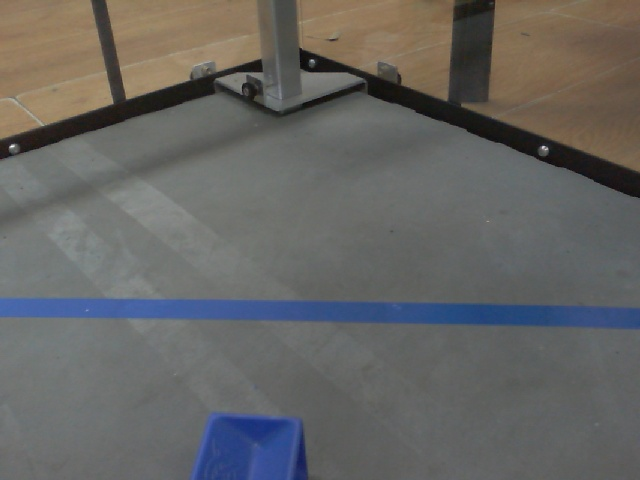BlueSample: (186, 407, 314, 480)
